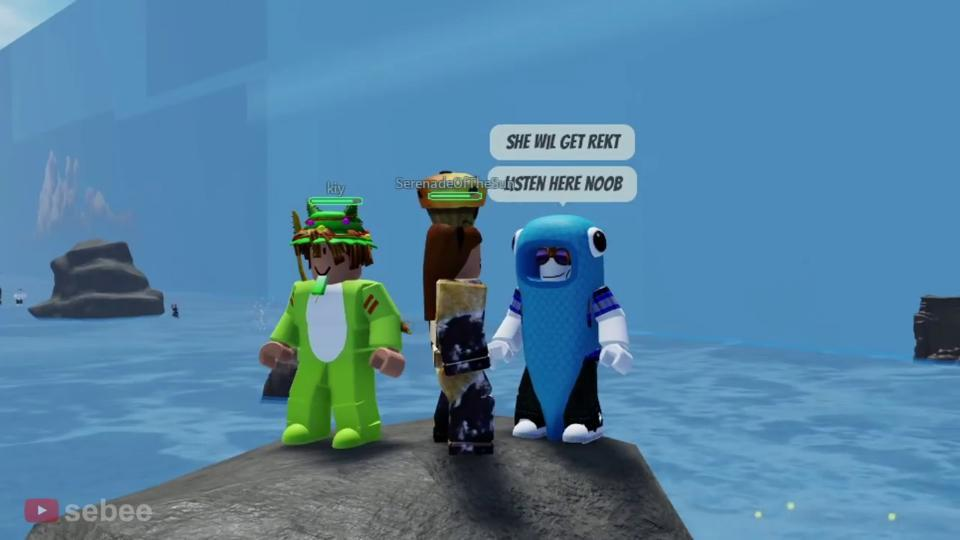Character: (260, 199, 412, 449), (487, 215, 632, 443), (418, 169, 497, 458)
